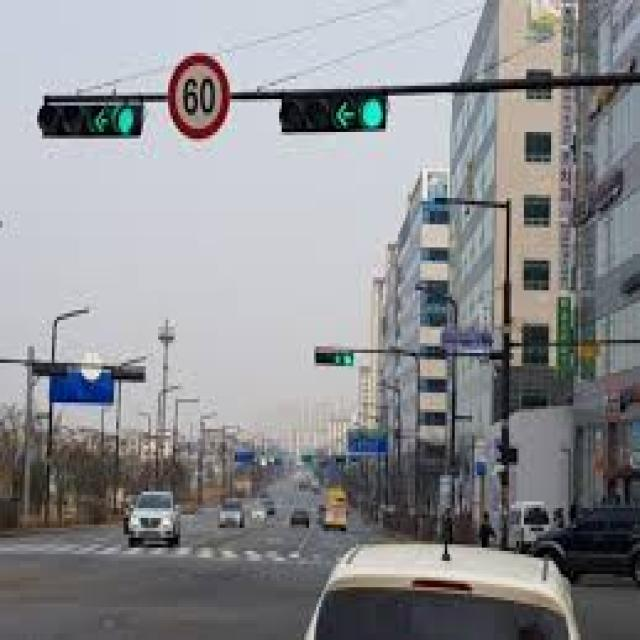Green Light: (358, 91, 386, 132), (112, 104, 140, 136), (344, 348, 354, 367)
